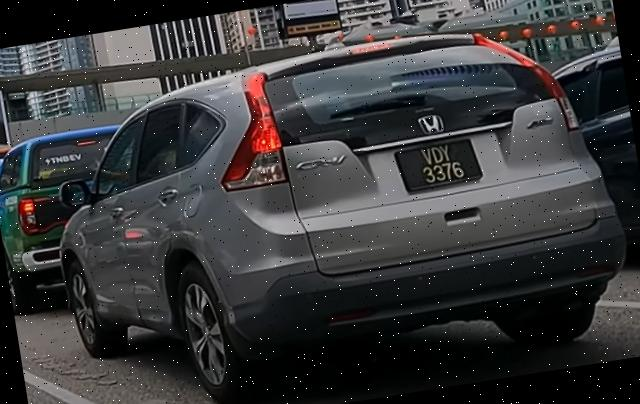License_Plate: (393, 135, 485, 195)
car: (32, 1, 640, 404)
